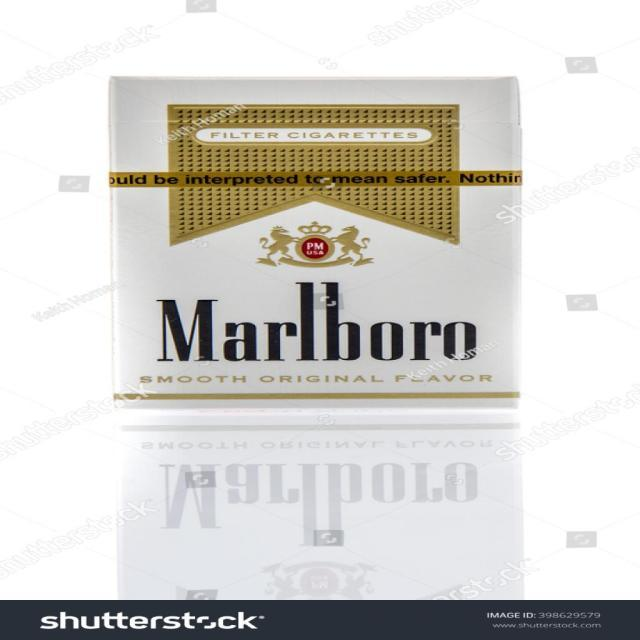smoking: (107, 71, 527, 605)
